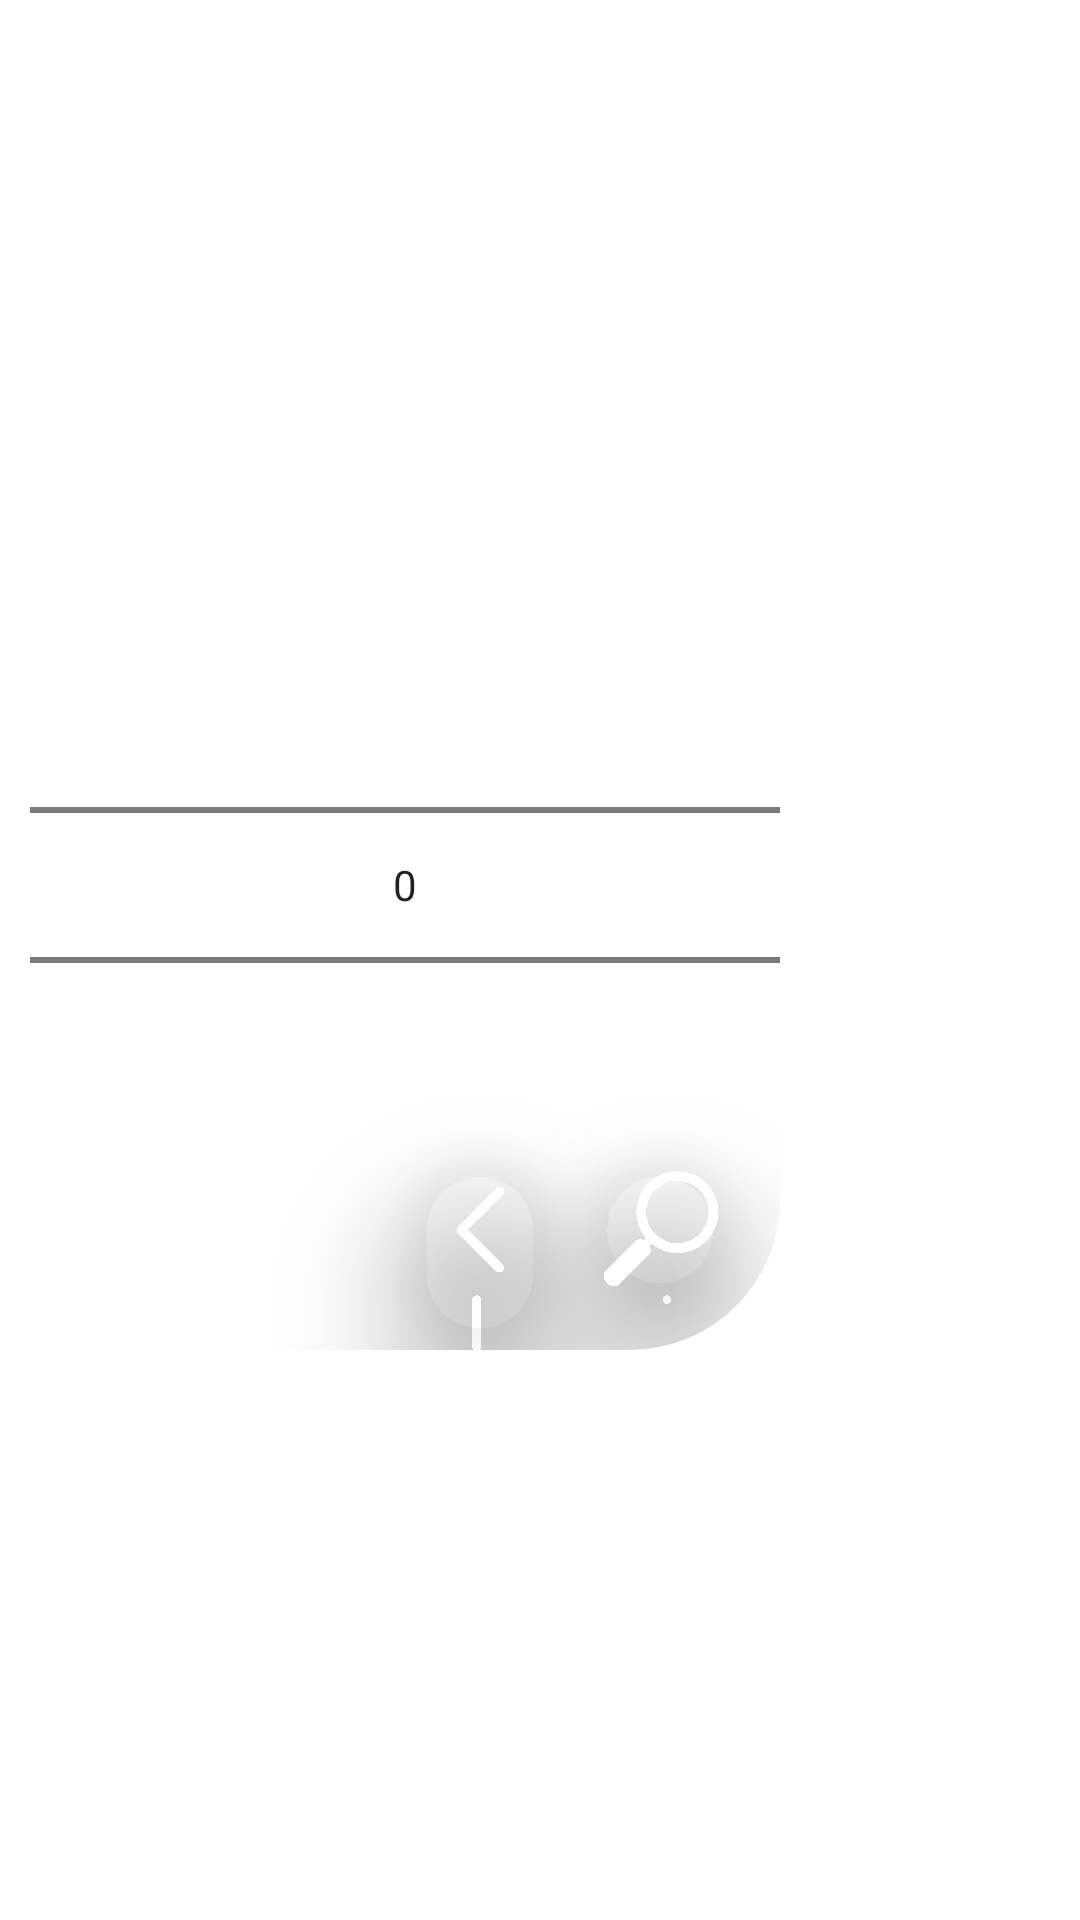

Locate icon controls on the screen. Image size 1080 x 1920, boxes as (x1, y1, x2, y2).
search: (585, 1169, 735, 1305)
